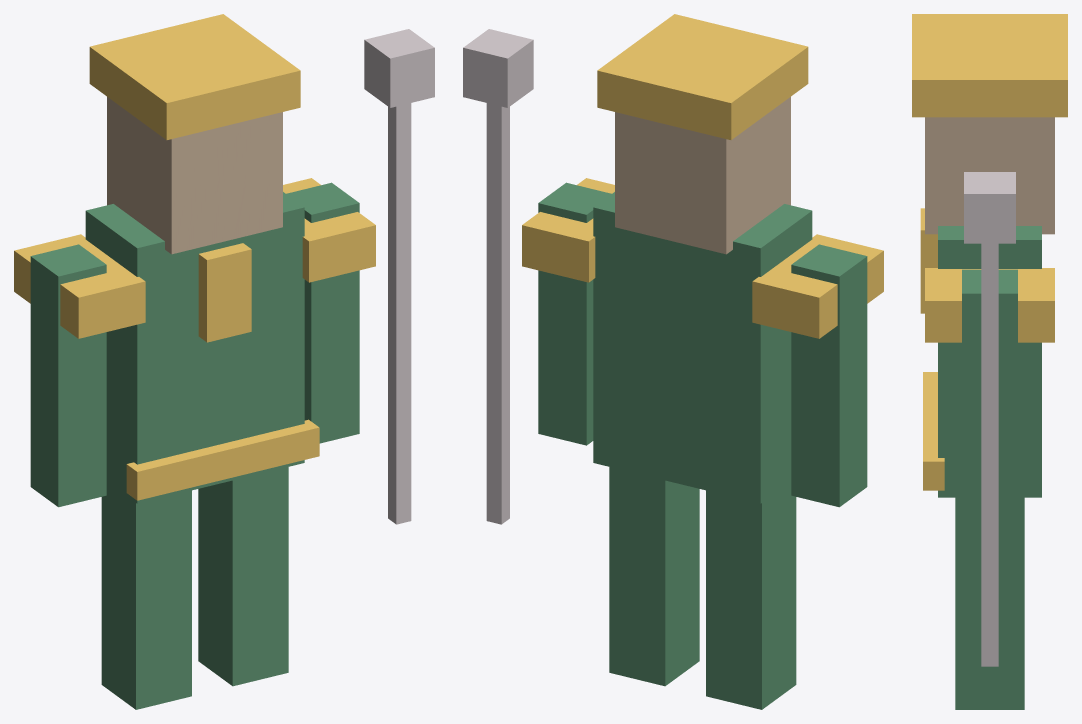
Rendered from 08_luma_skyharrow_specialist_from_armory.glb.
3 views of the same model, side by side, from view 1: azimuth 30°, elevation 25°; view 2: azimuth 150°, elevation 25°; view 3: azimuth 270°, elevation 25° (orthographic).
Parts seen in each view (by area): view 1: Luma Skyharrow, Specialist from Armory; view 2: Luma Skyharrow, Specialist from Armory; view 3: Luma Skyharrow, Specialist from Armory.
Part boxes in pixels (left/top/right/bottom): Luma Skyharrow, Specialist from Armory: left=14, top=14, right=434, bottom=709; Luma Skyharrow, Specialist from Armory: left=463, top=14, right=883, bottom=709; Luma Skyharrow, Specialist from Armory: left=912, top=14, right=1067, bottom=709.
Size of the model in its own units: 0.9869 by 1.55 by 0.35.
